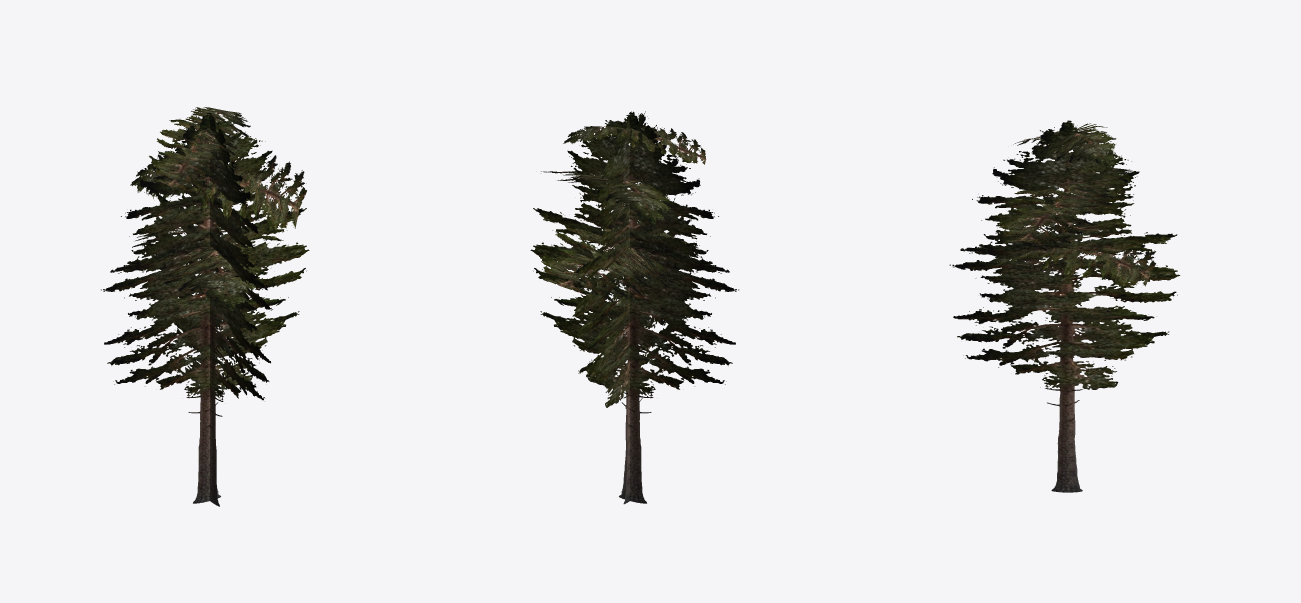
File: tree-dark-green-canopy.glb
3 views of the same model, side by side, from view 1: azimuth 30°, elevation 25°; view 2: azimuth 150°, elevation 25°; view 3: azimuth 270°, elevation 25° (orthographic). The views are drawn at different scales.
Visible parts, largest first — view 1: tree-dark-green-canopy; view 2: tree-dark-green-canopy; view 3: tree-dark-green-canopy.
Part boxes in pixels (x1,y1,x2,y2): tree-dark-green-canopy: (101, 107, 309, 506); tree-dark-green-canopy: (530, 111, 738, 504); tree-dark-green-canopy: (949, 120, 1180, 492).
Bounding box in the file's own units: 8 × 8 × 8.
Materials: 1 (1 with a texture image).
